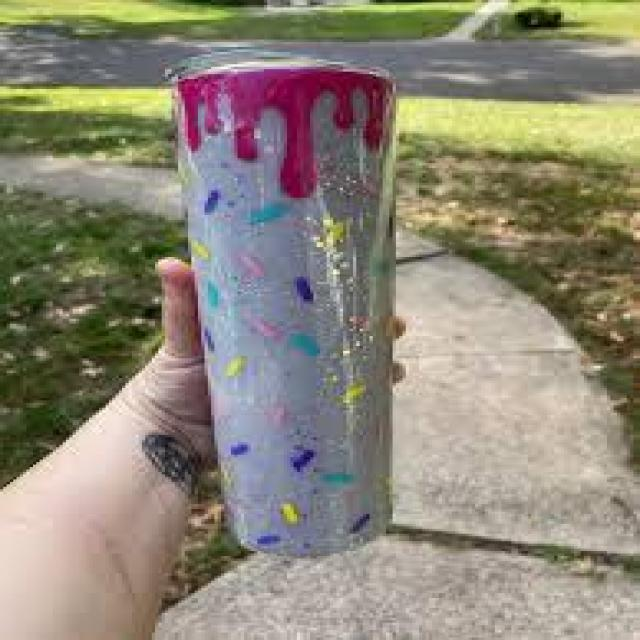bottle: (170, 59, 401, 561)
